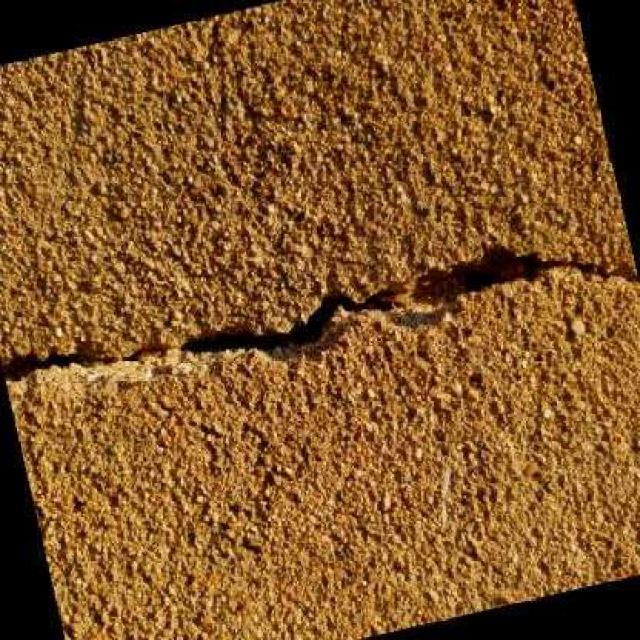D00: (2, 245, 601, 381)
